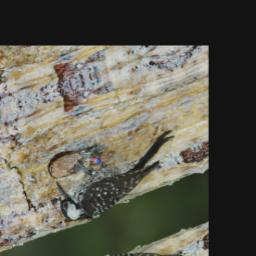Woodpecker: (49, 117, 185, 230)
